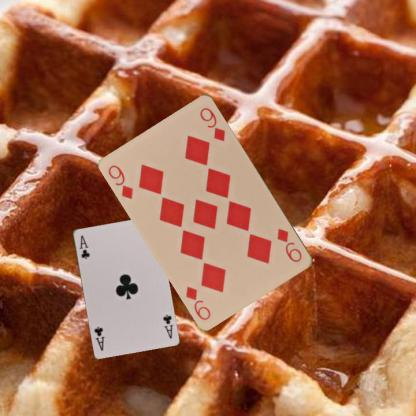9d: (274, 226, 304, 263), (106, 162, 135, 200)
Ac: (160, 311, 175, 340), (77, 232, 91, 260)
